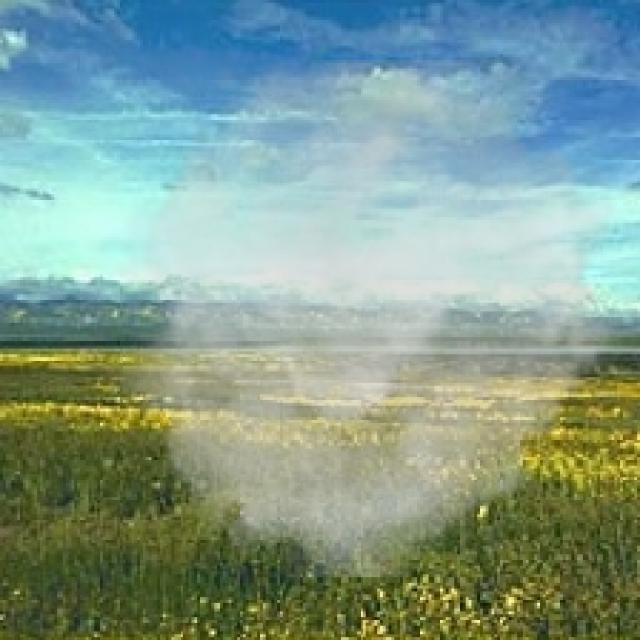Smoke: (106, 60, 634, 577)
